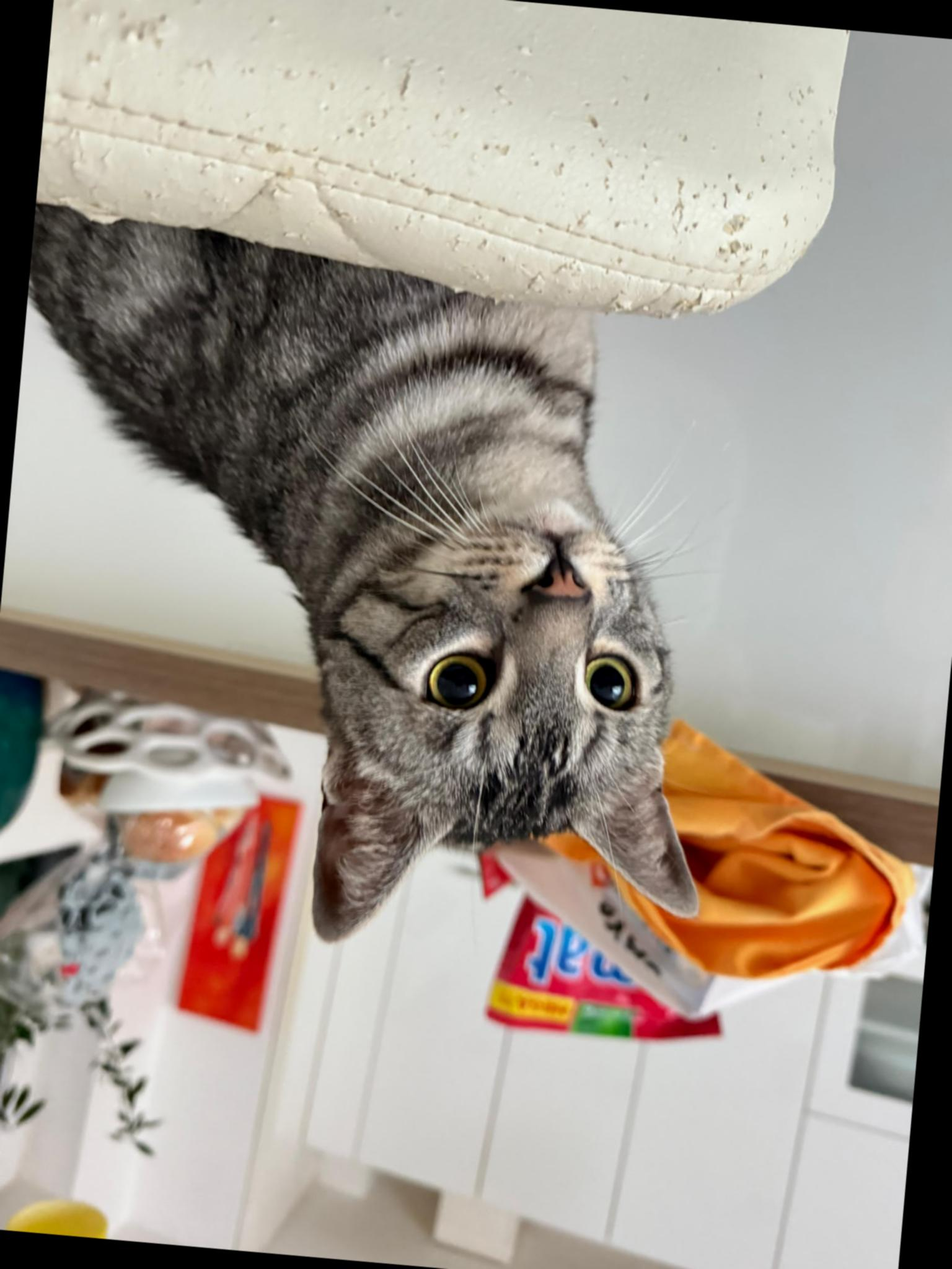macka: (0, 200, 760, 973)
